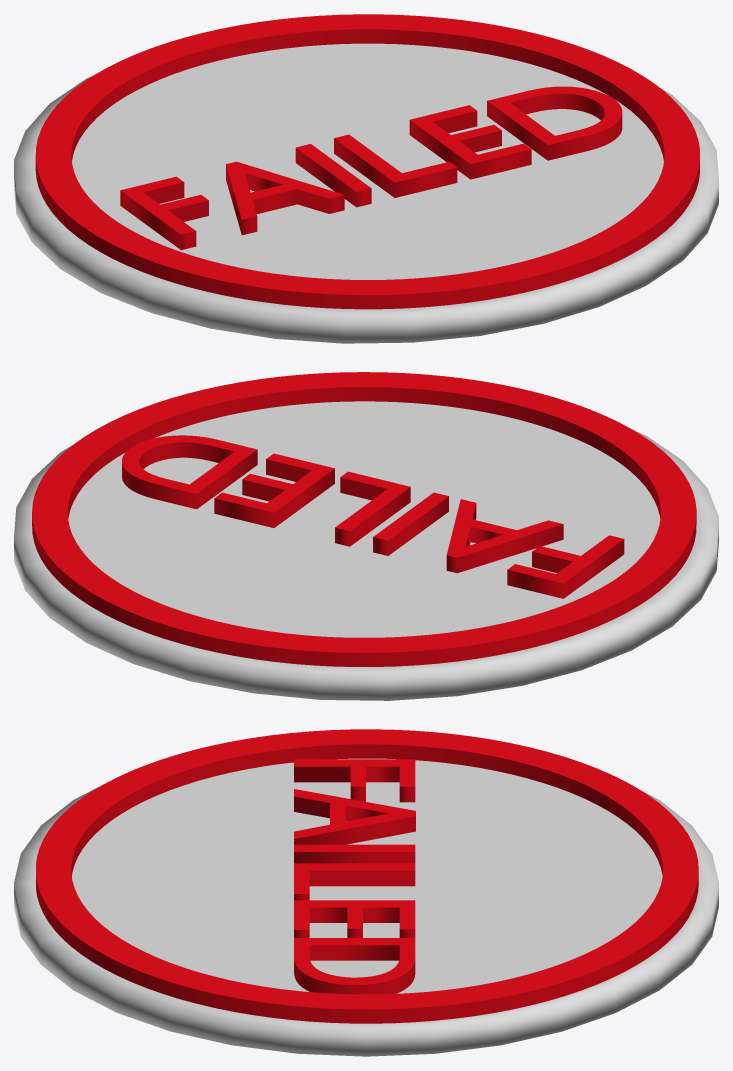
Rendered from FAILED.fbx.
3 views of the same model, one above another, from view 1: azimuth 30°, elevation 25°; view 2: azimuth 150°, elevation 25°; view 3: azimuth 270°, elevation 25° (orthographic).
Visible parts, largest first — view 1: Cylinder, Cube, FAILED; view 2: Cylinder, Cube, FAILED; view 3: Cylinder, Cube, FAILED.
Part boxes in pixels (x1,y1,x2,y2): Cylinder: (14, 43, 718, 343); Cube: (35, 14, 699, 309); FAILED: (120, 86, 622, 250); Cylinder: (14, 401, 718, 700); Cube: (32, 372, 696, 666); FAILED: (122, 435, 624, 598); Cylinder: (14, 758, 718, 1056); Cube: (36, 729, 698, 1023); FAILED: (294, 759, 415, 994).
Size of the model in its own units: 396 by 25.07 by 396.
